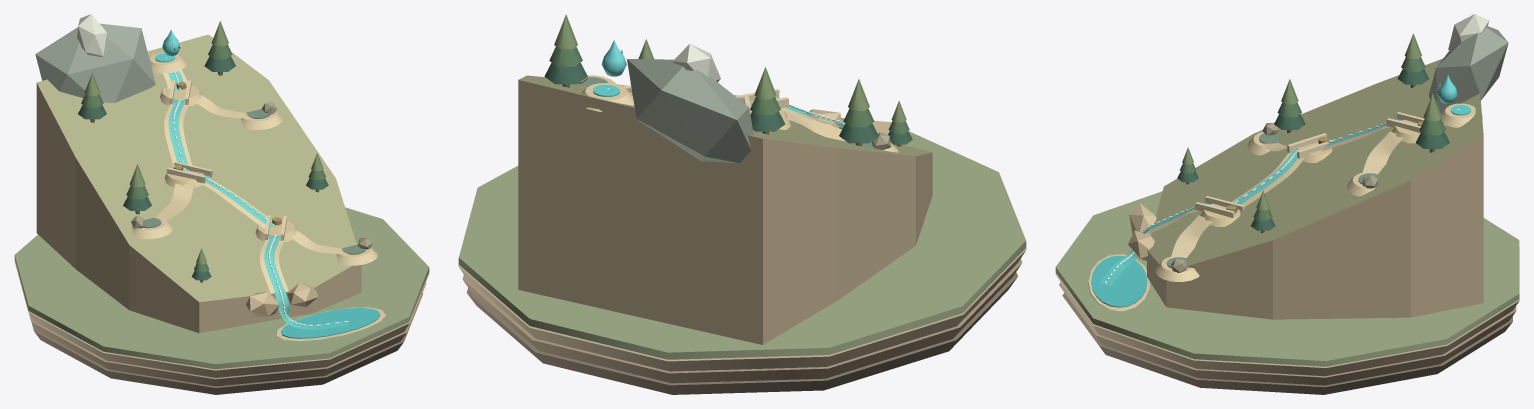
Rendered from huanglong-flow.glb.
3 renders of one model, left to right at view 1: azimuth 30°, elevation 25°; view 2: azimuth 150°, elevation 25°; view 3: azimuth 270°, elevation 25°, orthographic. The views are drawn at different scales.
Parts seen in each view (by area): view 1: 01 • Alpine runoff, branching channels and aquifer recharge, geological-plinth, alpine-conifer (×5), flow-underground-aquifer, runoff-soakaway-2, flow-branch-0--1-water, runoff-soakaway-0, exposed-alpine-source, runoff-soakaway-1, flow-aquifer-entry-water, rotating-channel-1, flow-branch-2--1-water (+4 smaller); view 2: 01 • Alpine runoff, branching channels and aquifer recharge, geological-plinth, alpine-conifer (×4), exposed-alpine-source, water-drop-body; view 3: 01 • Alpine runoff, branching channels and aquifer recharge, geological-plinth, alpine-conifer (×5), flow-underground-aquifer, exposed-alpine-source, runoff-soakaway-2, rotating-channel-2, rotating-channel-1, flow-branch-1-1-water, runoff-soakaway-1, rotating-channel-0, flow-aquifer-entry-water (+2 smaller).
Boxes of the visible parts, left/top/right/bottom form: 01 • Alpine runoff, branching channels and aquifer recharge: left=35, top=14, right=372, bottom=333; geological-plinth: left=14, top=207, right=429, bottom=394; alpine-conifer (×5): left=78, top=21, right=328, bottom=282; flow-underground-aquifer: left=276, top=307, right=385, bottom=341; runoff-soakaway-2: left=336, top=243, right=377, bottom=265; flow-branch-0--1-water: left=168, top=101, right=189, bottom=171; runoff-soakaway-0: left=241, top=109, right=281, bottom=129; exposed-alpine-source: left=149, top=52, right=186, bottom=73; runoff-soakaway-1: left=131, top=218, right=172, bottom=239; flow-aquifer-entry-water: left=274, top=290, right=348, bottom=329; rotating-channel-1: left=166, top=161, right=212, bottom=183; flow-branch-2--1-water: left=264, top=237, right=284, bottom=291; 01 • Alpine runoff, branching channels and aquifer recharge: left=518, top=44, right=932, bottom=344; geological-plinth: left=458, top=118, right=1026, bottom=394; alpine-conifer (×4): left=544, top=14, right=912, bottom=146; exposed-alpine-source: left=581, top=83, right=634, bottom=111; water-drop-body: left=601, top=40, right=626, bottom=76; 01 • Alpine runoff, branching channels and aquifer recharge: left=1128, top=14, right=1508, bottom=319; geological-plinth: left=1055, top=191, right=1519, bottom=394; alpine-conifer (×5): left=1177, top=33, right=1449, bottom=233; flow-underground-aquifer: left=1088, top=254, right=1149, bottom=311; exposed-alpine-source: left=1441, top=103, right=1482, bottom=127; runoff-soakaway-2: left=1155, top=256, right=1199, bottom=281; rotating-channel-2: left=1195, top=196, right=1244, bottom=217; rotating-channel-1: left=1287, top=133, right=1335, bottom=158; flow-branch-1-1-water: left=1226, top=152, right=1297, bottom=207; runoff-soakaway-1: left=1247, top=132, right=1278, bottom=155; rotating-channel-0: left=1386, top=112, right=1424, bottom=132; flow-aquifer-entry-water: left=1099, top=227, right=1149, bottom=285.
Bounding box in the file's own units: 9.23 × 6.11 × 9.59.
